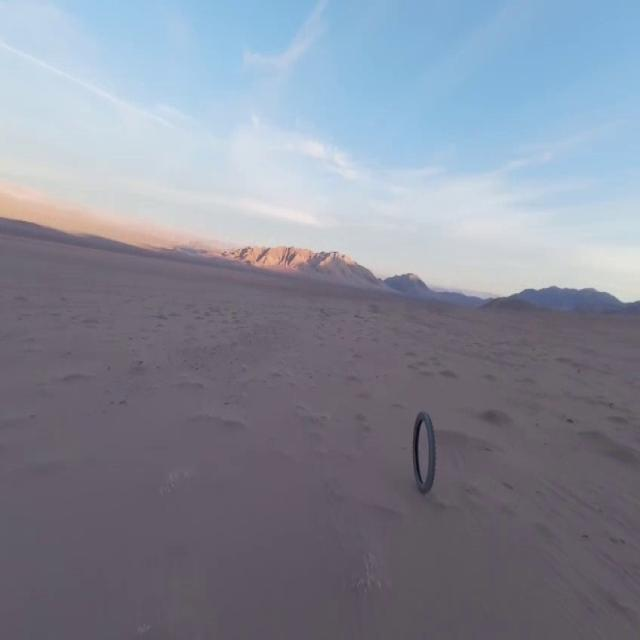Tire: (414, 411, 435, 491)
